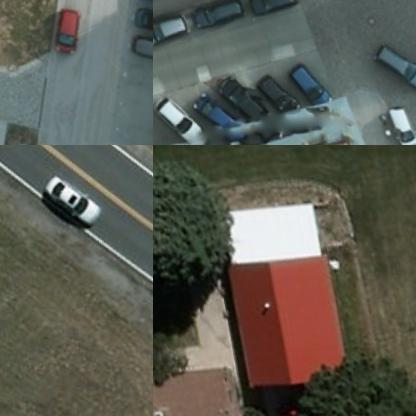car: (36, 158, 112, 235), (154, 89, 210, 144), (374, 31, 415, 92), (255, 67, 303, 118), (218, 71, 268, 119), (189, 0, 252, 38), (291, 55, 337, 107), (153, 5, 196, 56), (52, 4, 86, 58), (384, 92, 415, 144), (197, 88, 236, 128), (246, 0, 306, 20), (270, 389, 316, 415), (132, 26, 152, 69), (131, 0, 152, 38)
